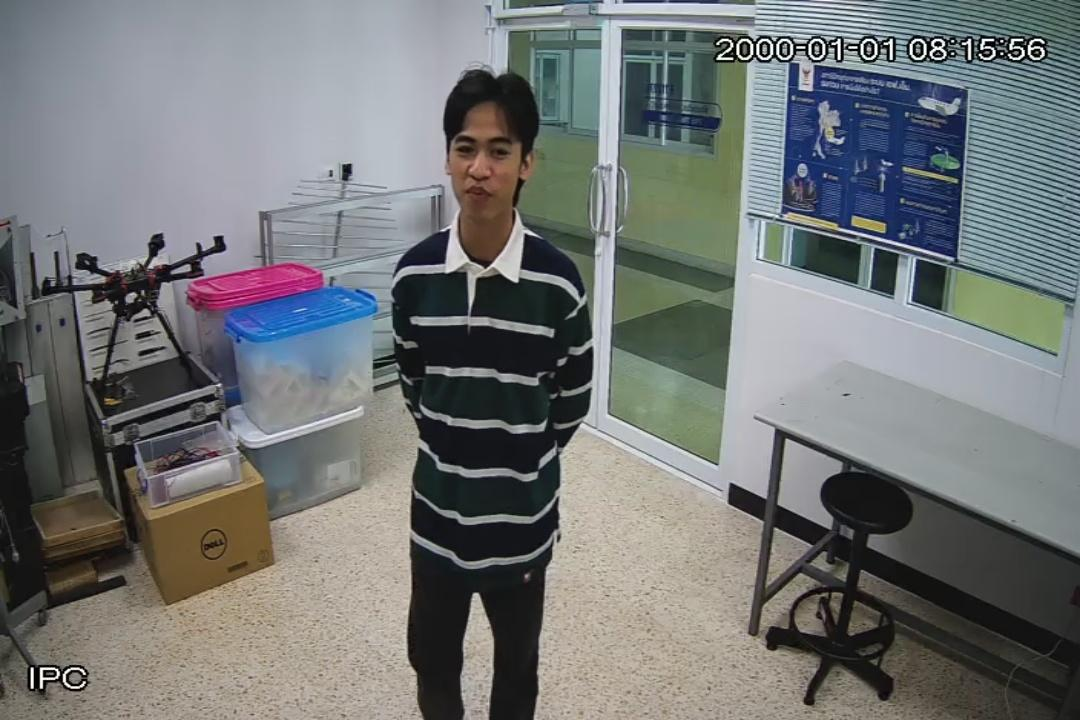normal: (391, 73, 596, 720)
